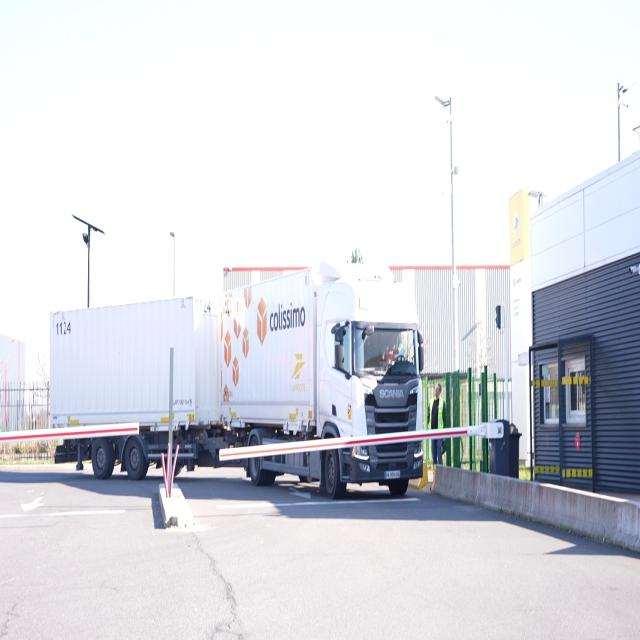Code: (52, 313, 74, 341)
